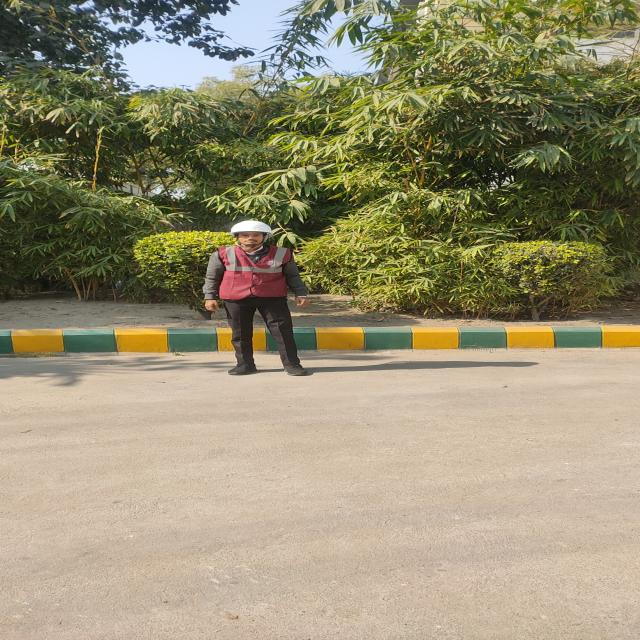safe: (204, 220, 308, 376)
